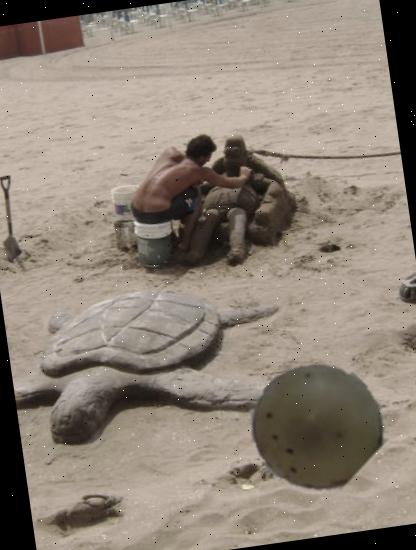Grape: (244, 354, 390, 500)
